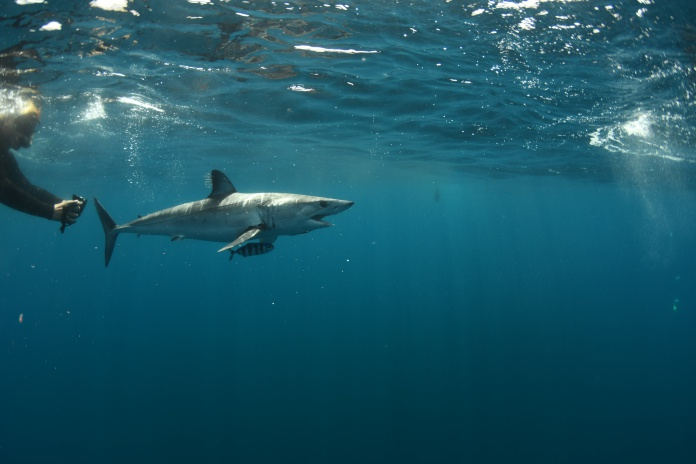Mako: (80, 165, 376, 275)
